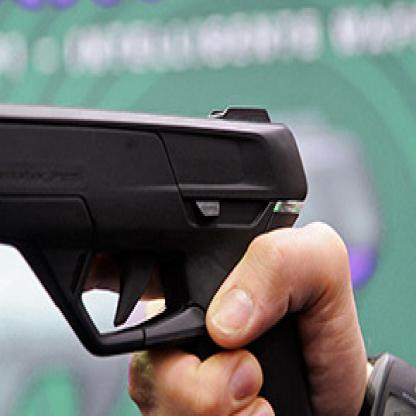gun: (0, 75, 332, 414)
